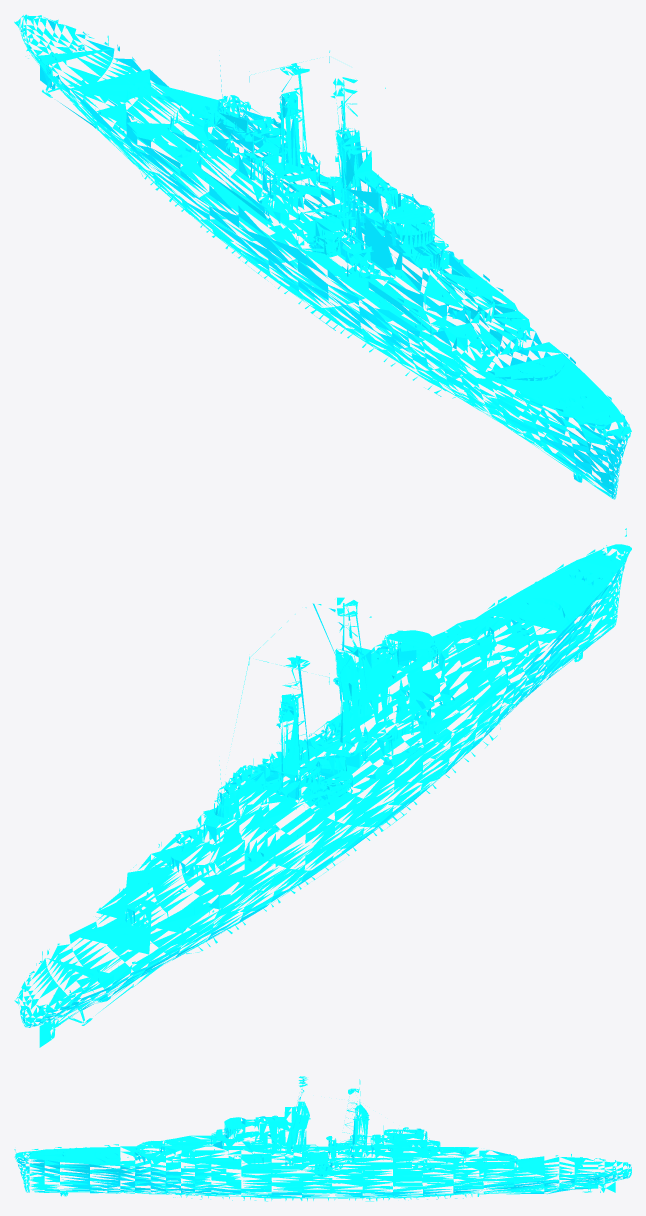
Rendered from Utrecht.glb.
3 views of the same model, one above another, from view 1: azimuth 30°, elevation 25°; view 2: azimuth 150°, elevation 25°; view 3: azimuth 270°, elevation 25° (orthographic). The views are drawn at different scales.
Size of the model in its own units: 1.23 by 2.79 by 13.34.
